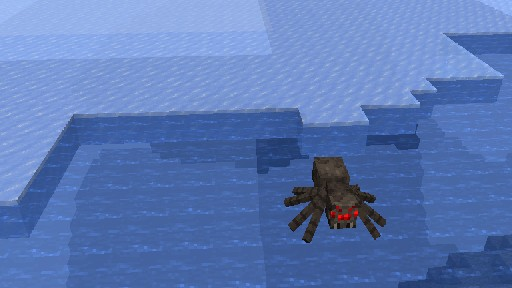spider: (283, 155, 386, 242)
